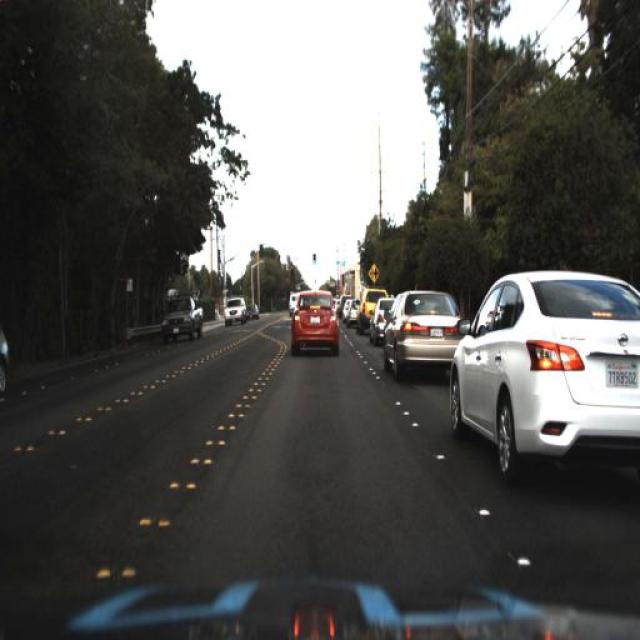car: (448, 242, 638, 493), (380, 286, 454, 384), (285, 286, 343, 364), (159, 289, 202, 341), (218, 292, 250, 332), (369, 297, 390, 352), (357, 286, 372, 338)
